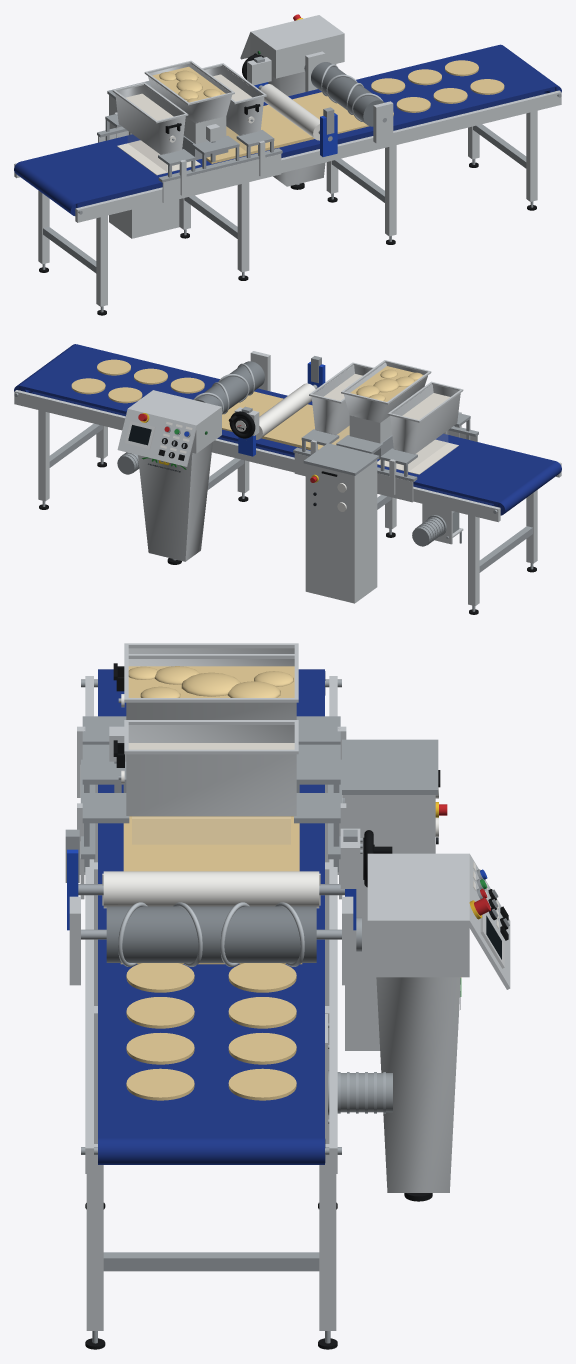
Rendered from alba-honey-line.glb.
3 renders of one model, top to bottom at view 1: azimuth 30°, elevation 25°; view 2: azimuth 150°, elevation 25°; view 3: azimuth 270°, elevation 25°, orthographic. The views are drawn at different scales.
Parts seen in each view (by area): view 1: лента, Медовая линия ALBA, щека рамы, нога (×5), anim-roll (×3), корпус пульта, anim-ball (×6), поперечина (×4), мукосей 1, щит рамы бункеров, щиток привода, тестовая лента (+13 smaller); view 2: лента, Медовая линия ALBA, щиток привода, тумба пульта, щека рамы, anim-roll (×3), нога (×5), мукосей 1, корпус пульта, anim-ball (×5), лицевая панель, поперечина (×3) (+14 smaller); view 3: лента, anim-roll (×3), Медовая линия ALBA, тумба пульта, anim-ball (×8), мукосей 2, корпус пульта, тестовая лента, полка (×6), щиток привода, щека рамы (×2), нога (×2) (+9 smaller).
Part boxes in pixels (x1=…): лента: x1=20, y1=45, x2=555, y2=205; Медовая линия ALBA: x1=15, y1=14, x2=561, y2=315; щека рамы: x1=75, y1=90, x2=561, y2=222; нога (×5): x1=38, y1=110, x2=537, y2=306; anim-roll (×3): x1=14, y1=62, x2=384, y2=215; корпус пульта: x1=250, y1=15, x2=344, y2=78; anim-ball (×6): x1=371, y1=60, x2=504, y2=112; поперечина (×4): x1=43, y1=124, x2=526, y2=273; мукосей 1: x1=115, y1=85, x2=185, y2=154; щит рамы бункеров: x1=162, y1=154, x2=281, y2=202; щиток привода: x1=109, y1=95, x2=179, y2=238; тестовая лента: x1=206, y1=105, x2=314, y2=163; лента: x1=20, y1=344, x2=555, y2=504; Медовая линия ALBA: x1=14, y1=356, x2=560, y2=614; щиток привода: x1=305, y1=460, x2=377, y2=603; тумба пульта: x1=138, y1=442, x2=212, y2=561; щека рамы: x1=14, y1=390, x2=500, y2=522; anim-roll (×3): x1=193, y1=361, x2=561, y2=515; нога (×5): x1=38, y1=410, x2=537, y2=606; мукосей 1: x1=390, y1=384, x2=460, y2=454; корпус пульта: x1=128, y1=390, x2=221, y2=453; anim-ball (×5): x1=71, y1=359, x2=204, y2=403; лицевая панель: x1=117, y1=409, x2=196, y2=466; поперечина (×3): x1=49, y1=423, x2=532, y2=572; лента: x1=98, y1=670, x2=324, y2=1137; anim-roll (×3): x1=98, y1=871, x2=325, y2=1164; Медовая линия ALBA: x1=65, y1=643, x2=509, y2=1349; тумба пульта: x1=376, y1=977, x2=460, y2=1192; anim-ball (×8): x1=126, y1=963, x2=296, y2=1100; мукосей 2: x1=126, y1=725, x2=296, y2=815; корпус пульта: x1=367, y1=853, x2=469, y2=977; тестовая лента: x1=123, y1=816, x2=299, y2=871; полка (×6): x1=82, y1=716, x2=340, y2=823; щиток привода: x1=345, y1=795, x2=435, y2=1050; щека рамы (×2): x1=85, y1=676, x2=337, y2=1173; нога (×2): x1=86, y1=1144, x2=336, y2=1330.
Size of the model in its own units: 4 by 1.41 by 1.57.
